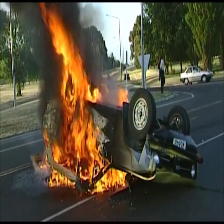fire_h: (57, 21, 115, 182), (98, 165, 131, 192), (116, 81, 134, 106), (54, 171, 80, 188)
fire_l: (47, 128, 53, 149), (45, 157, 54, 169)
